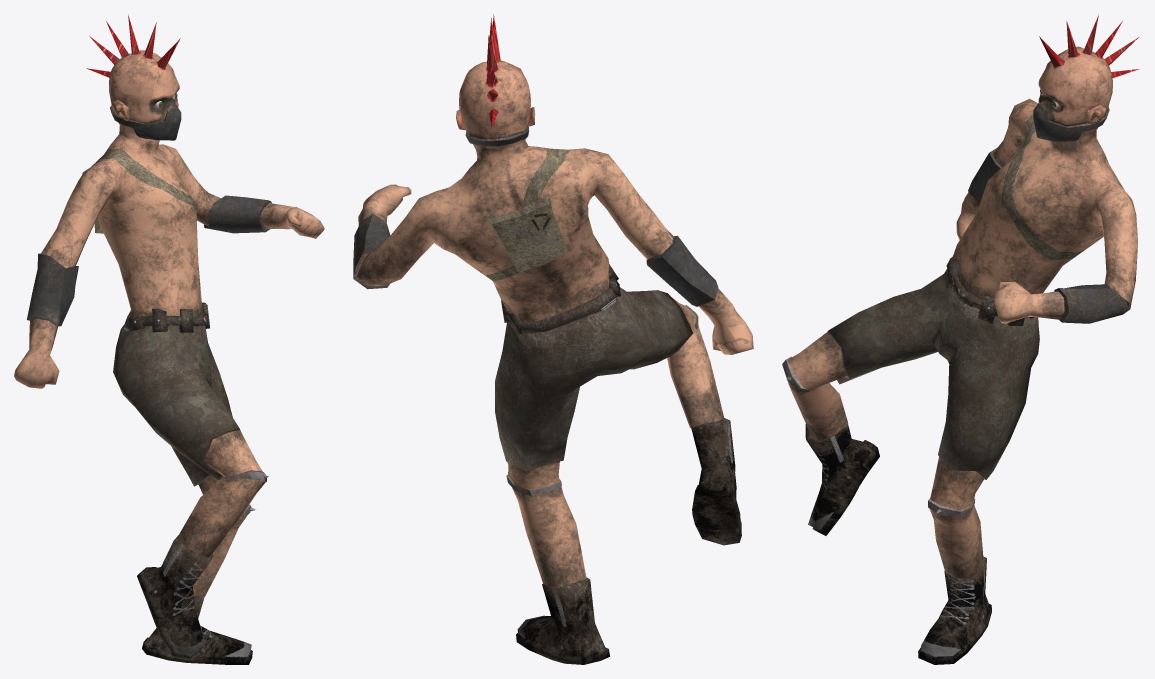
File: Anim_ataque_f2_npc2.0015.obj
3 renders of one model, left to right at view 1: azimuth 30°, elevation 25°; view 2: azimuth 150°, elevation 25°; view 3: azimuth 270°, elevation 25°, orthographic. The views are drawn at different scales.
Parts seen in each view (by area): view 1: polySurface1; view 2: polySurface1; view 3: polySurface1.
Part boxes in pixels (x1=…): polySurface1: x1=14, y1=14, x2=324, y2=664; polySurface1: x1=353, y1=14, x2=753, y2=664; polySurface1: x1=782, y1=14, x2=1139, y2=664.
Bounding box in the file's own units: 5.5 × 9.73 × 5.03.
2 materials, 2 textured.
